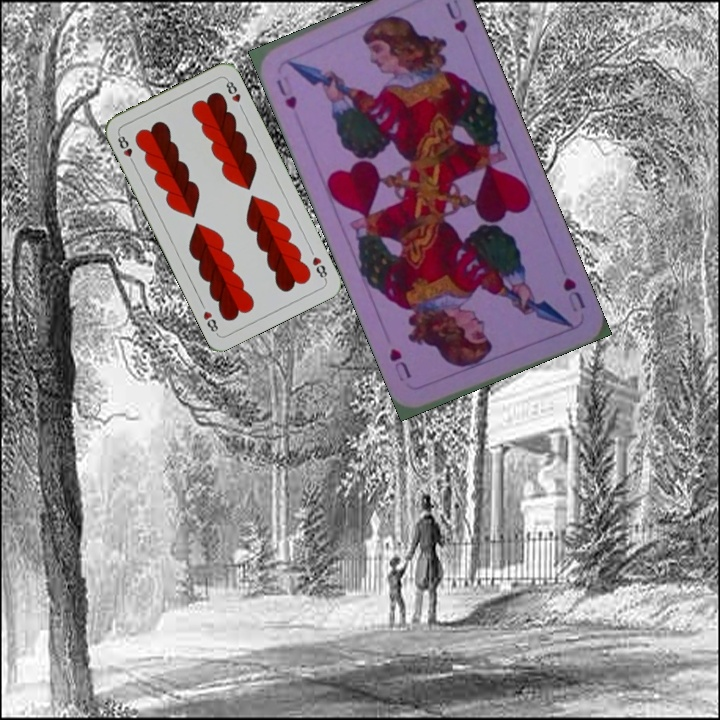H8: (113, 129, 138, 167), (308, 252, 330, 283)
HU: (559, 274, 588, 315), (272, 75, 300, 112)
